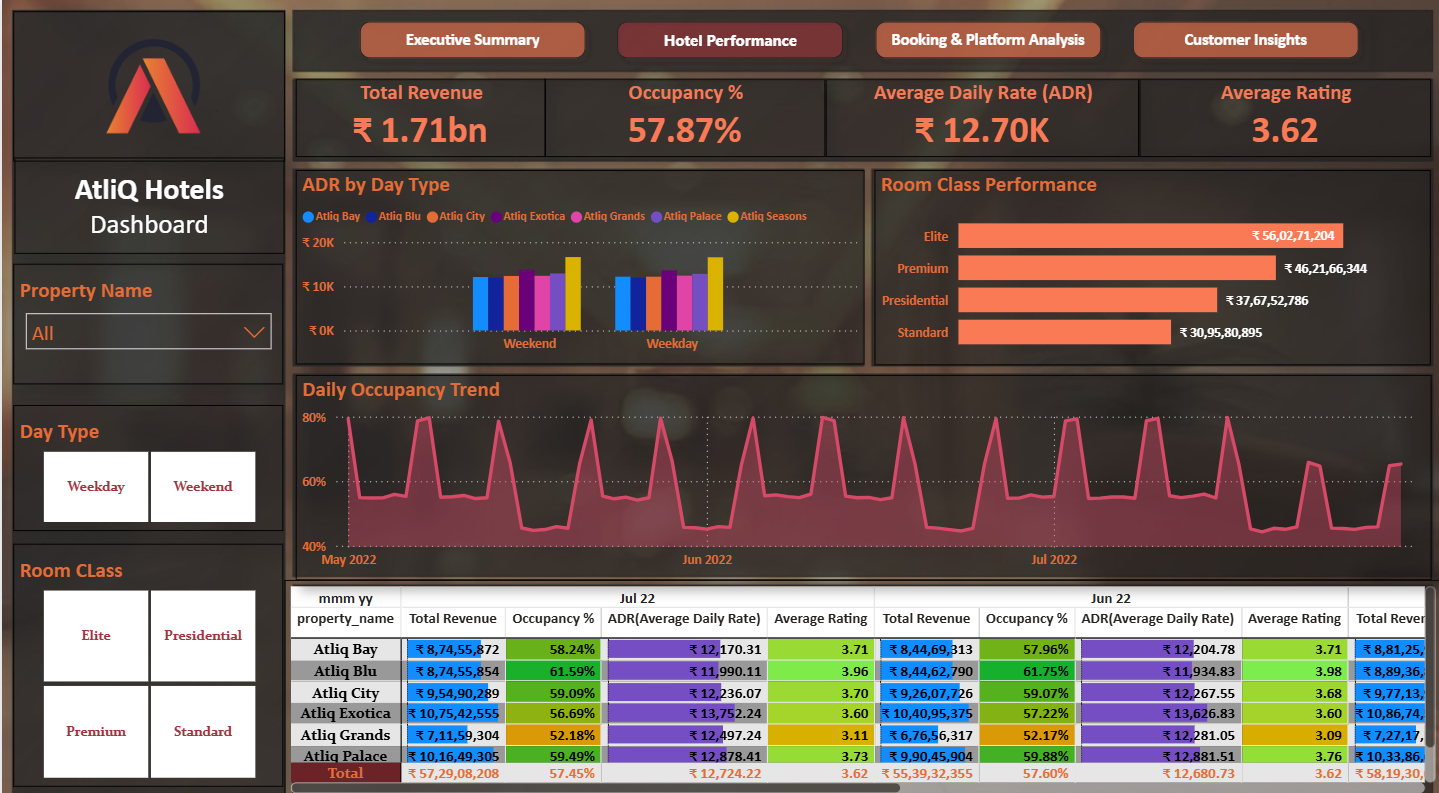

The dashboard page shown, as its layout file describes it:
{"tool":"powerbi","page":{"name":"Hotel Performance","canvas":[1280,720],"ordinal":1},"visuals":[{"type":"image","box":[9.7,9.7,241.3,133.9],"z":0},{"type":"textbox","box":[10.9,139.9,240.1,85.7],"z":1000},{"type":"card","title":"Total Revenue","fields":{"Values":[" Measures.Total Revenue"]},"box":[260.7,70,222.3,70],"z":2000},{"type":"card","title":"Occupancy %","fields":{"Values":[" Measures.Occupancy %"]},"box":[482.6,70,249.7,70],"z":3000},{"type":"card","title":"Average Daily Rate (ADR)","fields":{"Values":[" Measures.ADR(Average Daily Rate)"]},"box":[732.3,70,278.7,70],"z":4000},{"type":"card","title":"Average Rating","fields":{"Values":[" Measures.Average Rating"]},"box":[1011.3,70,259.3,70],"z":5000},{"type":"slicer","title":"Property Name","fields":{"Values":["dim_hotels.property_name"]},"box":[9.7,234,240.1,107.4],"z":6000},{"type":"slicer","title":"Day Type","fields":{"Values":["dim_date.day_type"]},"box":[9.7,359.5,240.1,112.2],"z":7000},{"type":"slicer","title":"Room CLass","fields":{"Values":["dim_rooms.room_class"]},"box":[9.7,483.8,240.1,216],"z":8000},{"type":"pivotTable","fields":{"Rows":["dim_hotels.property_name"],"Columns":["dim_date.mmm yy"],"Values":[" Measures.Total Revenue"," Measures.Occupancy %"," Measures.ADR(Average Daily Rate)"," Measures.Average Rating"]},"box":[250.9,515.2,1029.1,195.4],"z":9000},{"type":"lineChart","title":"Daily Occupancy Trend","fields":{"Category":["dim_date.date"],"Y":[" Measures.Occupancy %"]},"box":[260.6,333,1009.8,182.2],"z":10000},{"type":"clusteredColumnChart","title":"ADR by Day Type","fields":{"Category":["dim_date.day_type"],"Y":[" Measures.ADR(Average Daily Rate)"],"Series":["dim_hotels.property_name"]},"box":[260.6,150.8,505.5,172.5],"z":11000},{"type":"clusteredBarChart","title":"Room Class Performance","fields":{"Category":["dim_rooms.room_class"],"Y":[" Measures.Total Revenue"]},"box":[775.7,150.8,494.6,173.7],"z":12000},{"type":"pageNavigator","box":[308.8,9.7,906,51.9],"z":13000}]}

Visuals, with their boxes in screenshot pixels (x1, y1, x2, y2), scaled from the page's 1280x720 canvas onto the 1439x793 screenshot:
image: region(11, 11, 282, 158)
textbox: region(12, 154, 282, 248)
"Total Revenue" card: region(293, 77, 543, 154)
"Occupancy %" card: region(543, 77, 823, 154)
"Average Daily Rate (ADR)" card: region(823, 77, 1137, 154)
"Average Rating" card: region(1137, 77, 1428, 154)
"Property Name" slicer: region(11, 258, 281, 376)
"Day Type" slicer: region(11, 396, 281, 520)
"Room CLass" slicer: region(11, 533, 281, 771)
pivotTable - dim_hotels.property_name x dim_date.mmm yy: region(282, 567, 1438, 783)
"Daily Occupancy Trend" lineChart: region(293, 367, 1428, 567)
"ADR by Day Type" clusteredColumnChart: region(293, 166, 861, 356)
"Room Class Performance" clusteredBarChart: region(872, 166, 1428, 357)
pageNavigator: region(347, 11, 1366, 68)
